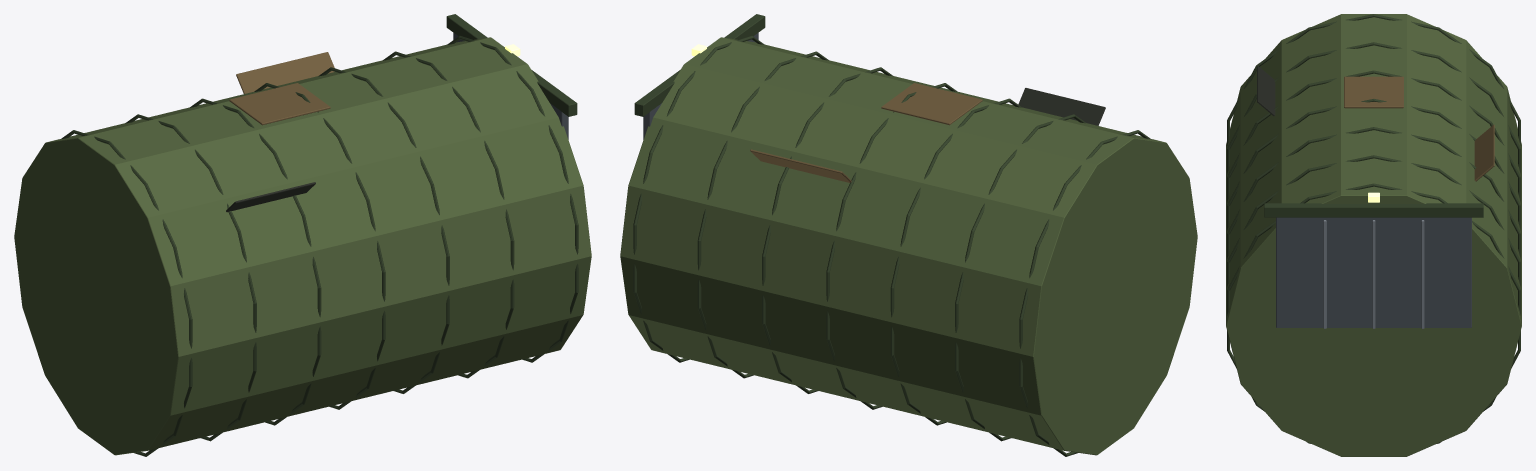
File: hangar.glb
3 views of the same model, side by side, from view 1: azimuth 30°, elevation 25°; view 2: azimuth 150°, elevation 25°; view 3: azimuth 270°, elevation 25° (orthographic). The views are drawn at different scales.
Parts seen in each view (by area): view 1: hangar; view 2: hangar; view 3: hangar.
Boxes of the visible parts, x1=… form: hangar: x1=14, y1=14, x2=591, y2=456; hangar: x1=620, y1=14, x2=1197, y2=456; hangar: x1=1226, y1=14, x2=1521, y2=456.
Size of the model in its own units: 18.32 by 12.63 by 12.4.
